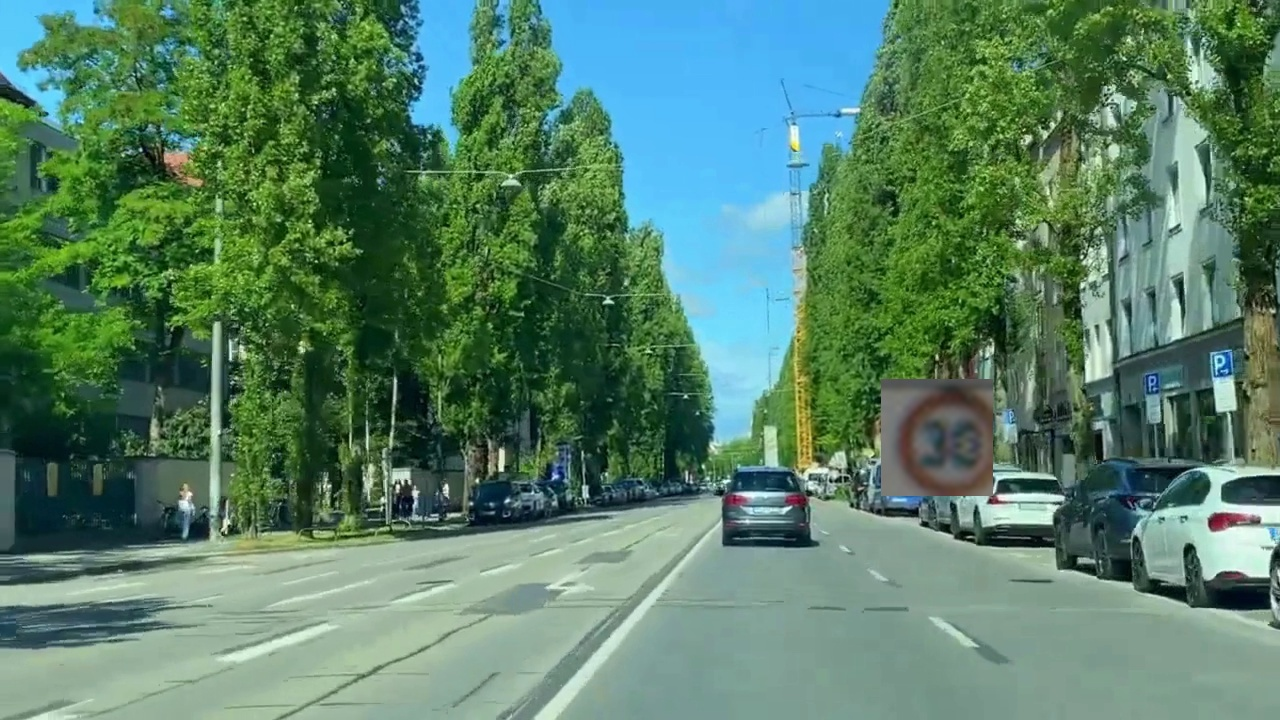Speed 30: (881, 379, 993, 496)
